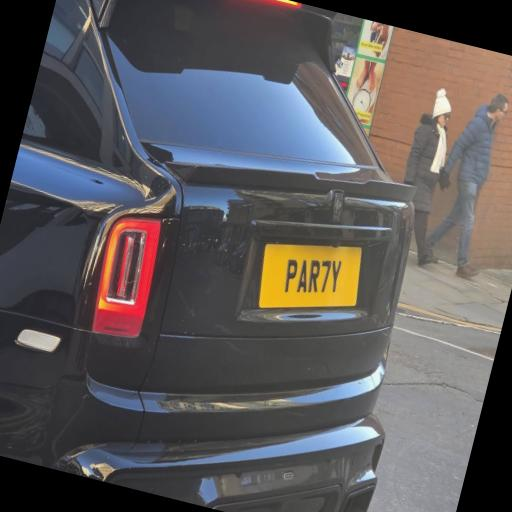numberplates: (259, 244, 361, 308)
